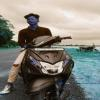motorcycles: (22, 37, 77, 99)
